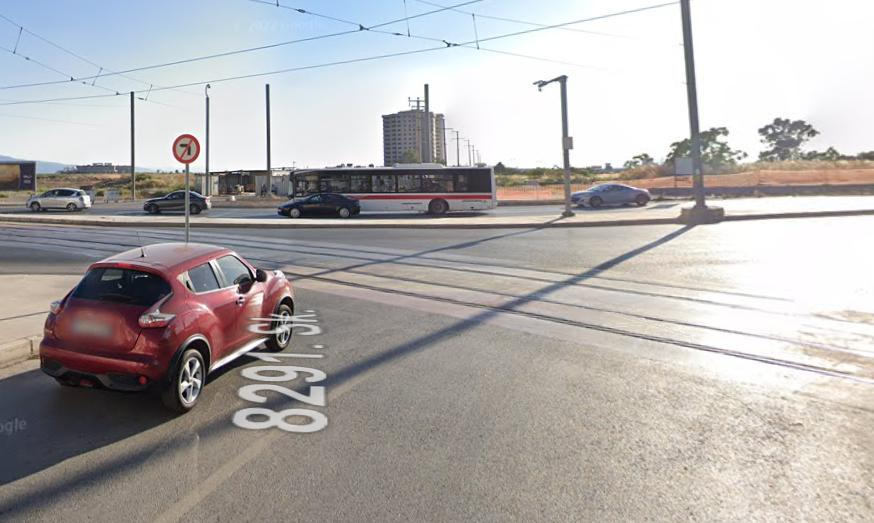leftturnsareforbidden: (170, 133, 203, 164)
